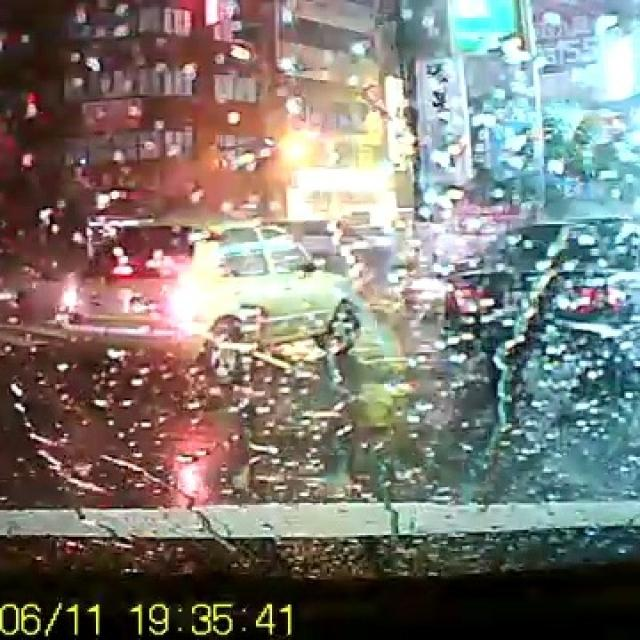Car: (47, 211, 361, 385), (435, 207, 638, 389)
